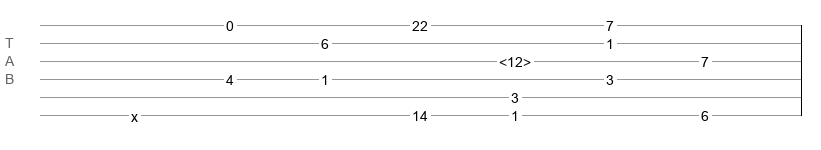0: (226, 18, 234, 28)
1: (321, 72, 329, 82), (511, 108, 519, 118), (606, 36, 614, 46)
14: (412, 108, 428, 118)
22: (412, 18, 428, 28)
3: (511, 90, 519, 100), (606, 72, 614, 82)
4: (226, 72, 234, 82)
6: (321, 36, 329, 46), (701, 108, 709, 118)
7: (606, 18, 614, 28), (701, 54, 709, 64)
harmonic: (499, 54, 531, 64)
x: (131, 109, 138, 117)
